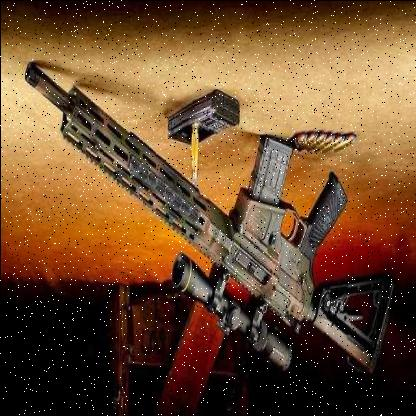rifle: (51, 65, 403, 395)
